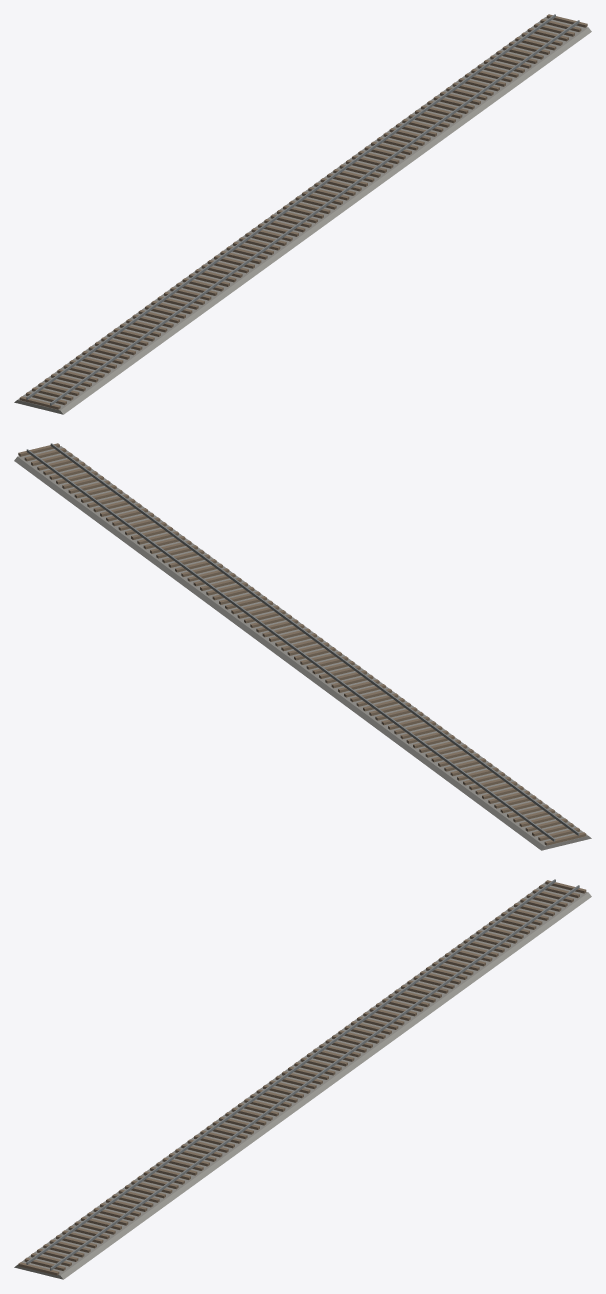
File: rail_01214.glb
3 views of the same model, one above another, from view 1: azimuth 90°, elevation 25°; view 2: azimuth 150°, elevation 25°; view 3: azimuth 270°, elevation 25° (orthographic).
Parts seen in each view (by area): view 1: Sleepers, Ballast, Rails; view 2: Sleepers, Ballast, Rails; view 3: Sleepers, Ballast, Rails.
Part boxes in pixels (left/top/right/bottom): Sleepers: left=19, top=14, right=587, bottom=409; Ballast: left=14, top=17, right=591, bottom=414; Rails: left=26, top=14, right=579, bottom=405; Sleepers: left=18, top=443, right=586, bottom=845; Ballast: left=14, top=446, right=591, bottom=850; Rails: left=26, top=443, right=579, bottom=841; Sleepers: left=18, top=880, right=586, bottom=1275; Ballast: left=14, top=882, right=591, bottom=1279; Rails: left=26, top=879, right=579, bottom=1270.
Size of the model in its own units: 48.79 by 0.48 by 30.16.
